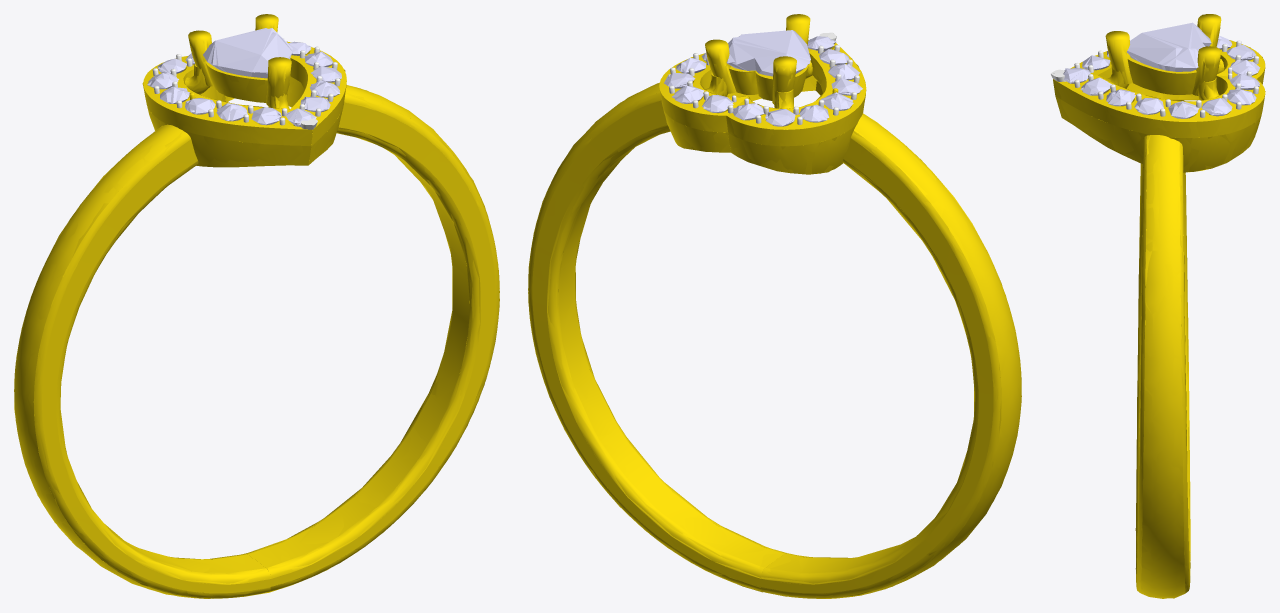
File: DLR-D000675719.glb
3 views of the same model, side by side, from view 1: azimuth 30°, elevation 25°; view 2: azimuth 150°, elevation 25°; view 3: azimuth 270°, elevation 25° (orthographic). The views are drawn at different scales.
Visible parts, largest first — view 1: highPolyMesh, lowPolyMesh; view 2: highPolyMesh, lowPolyMesh; view 3: highPolyMesh, lowPolyMesh.
Boxes of the visible parts, x1=… form: highPolyMesh: x1=14, y1=14, x2=499, y2=598; lowPolyMesh: x1=14, y1=18, x2=499, y2=598; highPolyMesh: x1=528, y1=14, x2=1021, y2=598; lowPolyMesh: x1=528, y1=15, x2=1021, y2=598; highPolyMesh: x1=1051, y1=14, x2=1265, y2=598; lowPolyMesh: x1=1051, y1=14, x2=1265, y2=598.
Size of the model in its own units: 0.0199 by 0.0218 by 0.00789.
